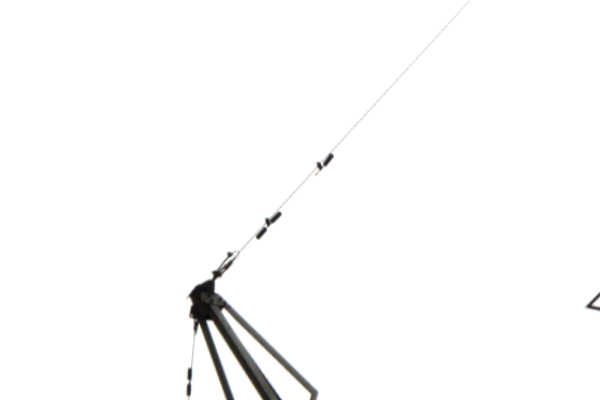damper: (254, 210, 283, 241), (185, 365, 194, 398)
damper_defect: (313, 151, 335, 180)
